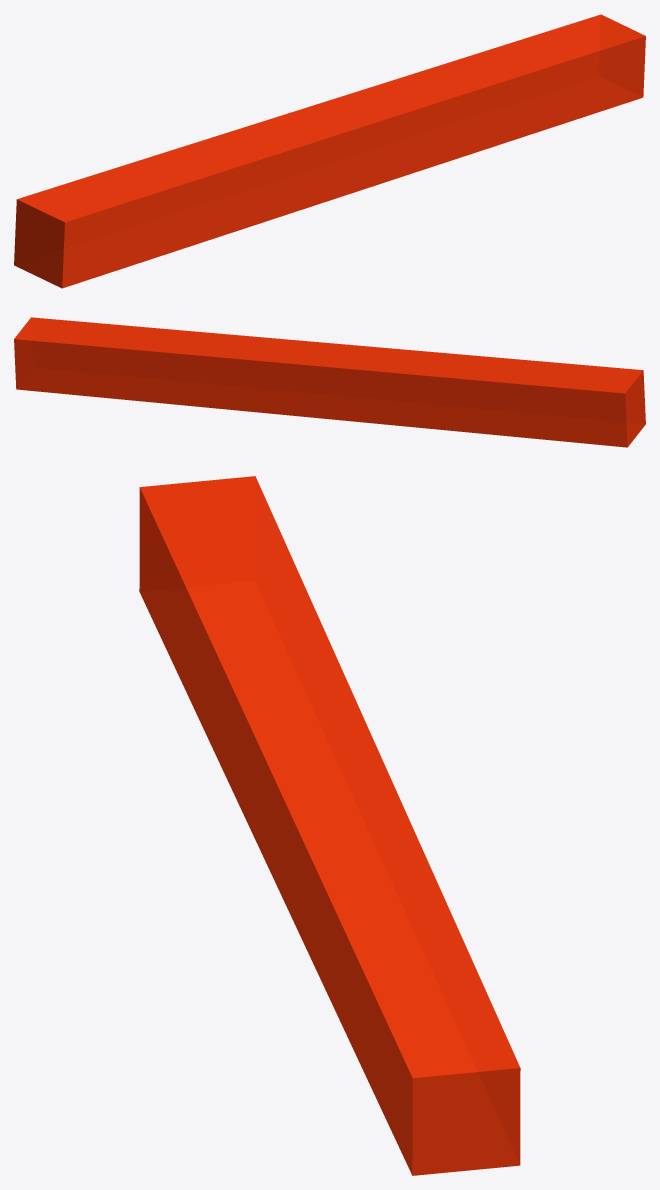
File: Event_421278790_EErechit_12.fbx
3 views of the same model, one above another, from view 1: azimuth 30°, elevation 25°; view 2: azimuth 150°, elevation 25°; view 3: azimuth 270°, elevation 25° (orthographic). The views are drawn at different scales.
Visible parts, largest first — view 1: Model; view 2: Model; view 3: Model.
Boxes of the visible parts, x1,y1,x2,y2 form: Model: (14,14,645,288); Model: (14,317,645,447); Model: (139,476,520,1175).
Bounding box in the file's own units: 0.8475 × 0.1167 × 0.251.
